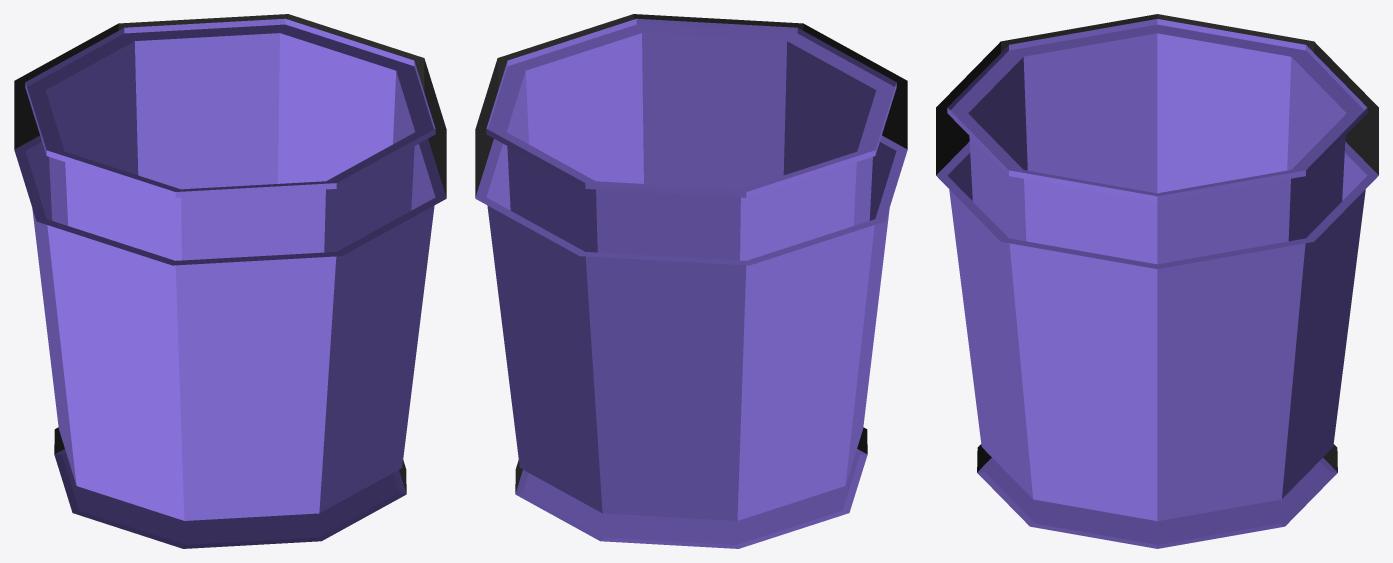
The model's file is Trash Can 6.fbx.
3 renders of one model, left to right at view 1: azimuth 30°, elevation 25°; view 2: azimuth 150°, elevation 25°; view 3: azimuth 270°, elevation 25°, orthographic.
Parts seen in each view (by area): view 1: Node 0; view 2: Node 0; view 3: Node 0.
Boxes of the visible parts, x1=… form: Node 0: x1=14, y1=14, x2=446, y2=548; Node 0: x1=475, y1=14, x2=907, y2=548; Node 0: x1=936, y1=14, x2=1378, y2=548.
Bounding box in the file's own units: 0.4825 × 0.4388 × 0.4825.
